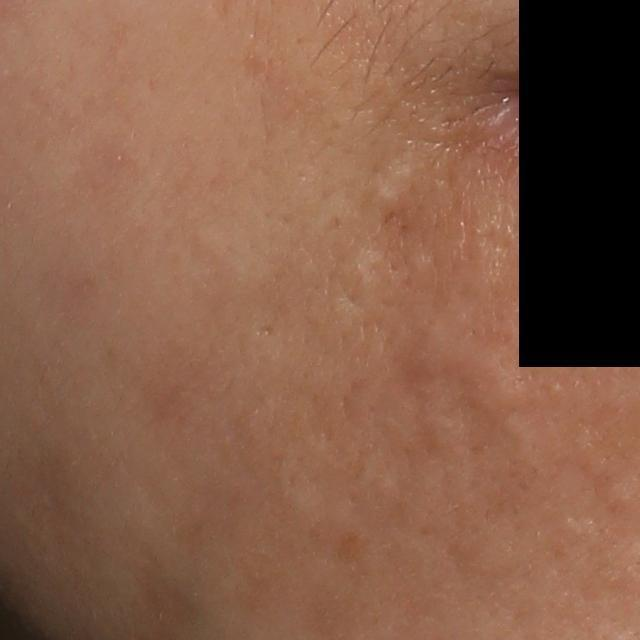hypertrophic_scar: (398, 309, 534, 417), (324, 240, 388, 352), (370, 158, 419, 216)
